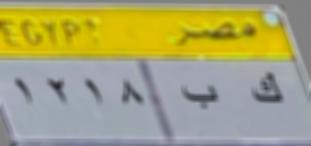1: (79, 75, 106, 114), (13, 72, 35, 115)
2: (46, 71, 70, 116)
8: (114, 73, 147, 115)
baa: (179, 79, 221, 118)
kaaf: (248, 65, 286, 115)
